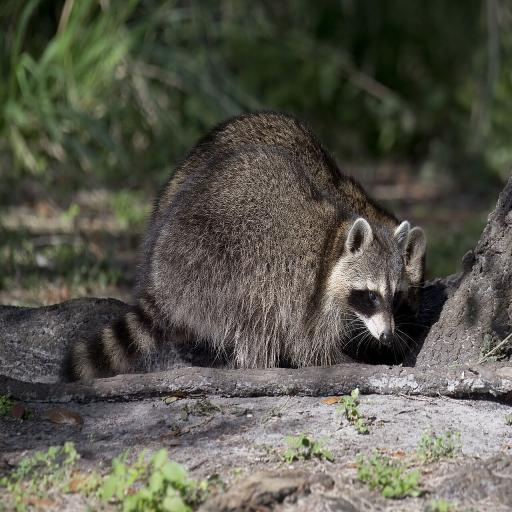raccoon: (68, 112, 425, 378)
